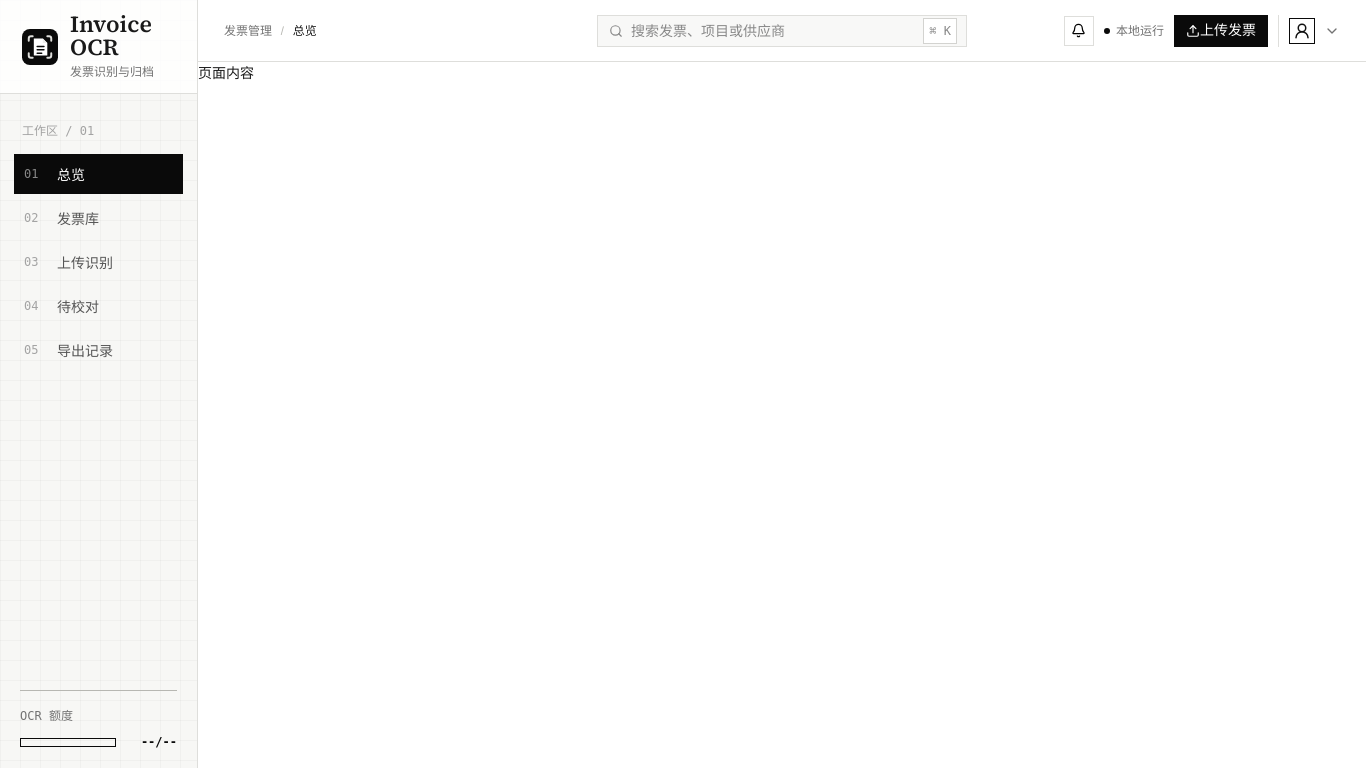
Test: global search command › shows empty and request-error states
Click the button "搜索发票、项目或供应商 ⌘ K" at (782, 30), box [597,14,967,46]
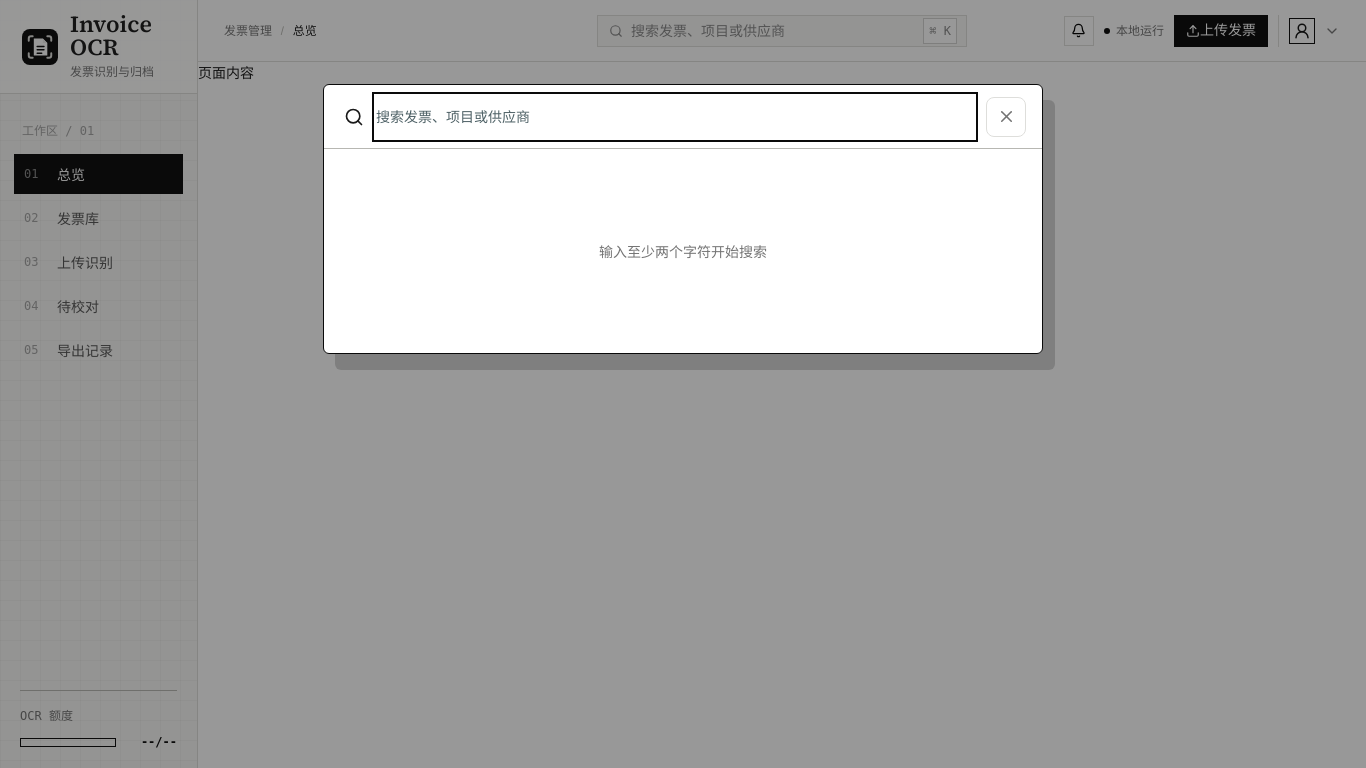
Type "没有" into the search field named "全局搜索" at (675, 117), box [376,96,974,138]
Wait 220 ms
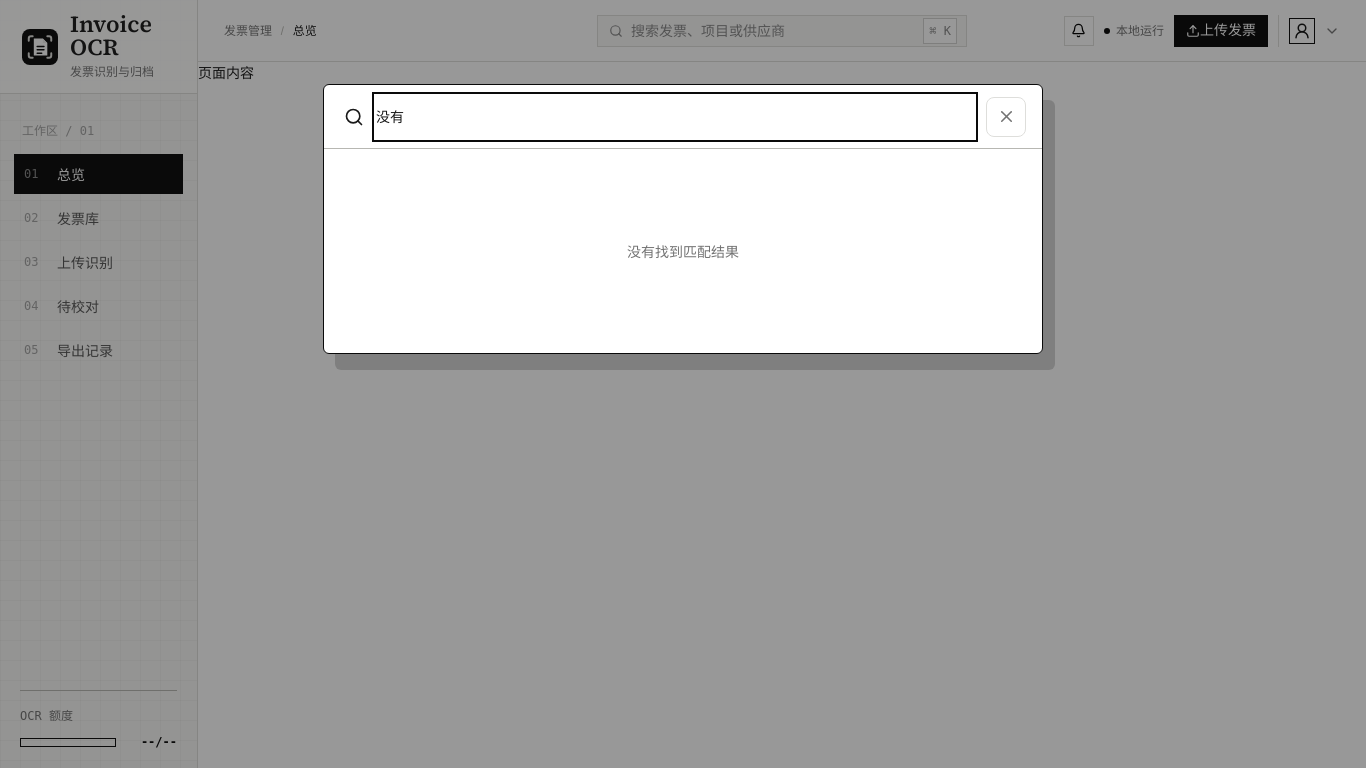
Check: the text "没有找到匹配结果" is shown, box [627,242,739,261]
Replace the text in the search field named "全局搜索" with "断网" at (675, 117), box [376,96,974,138]
Wait 220 ms
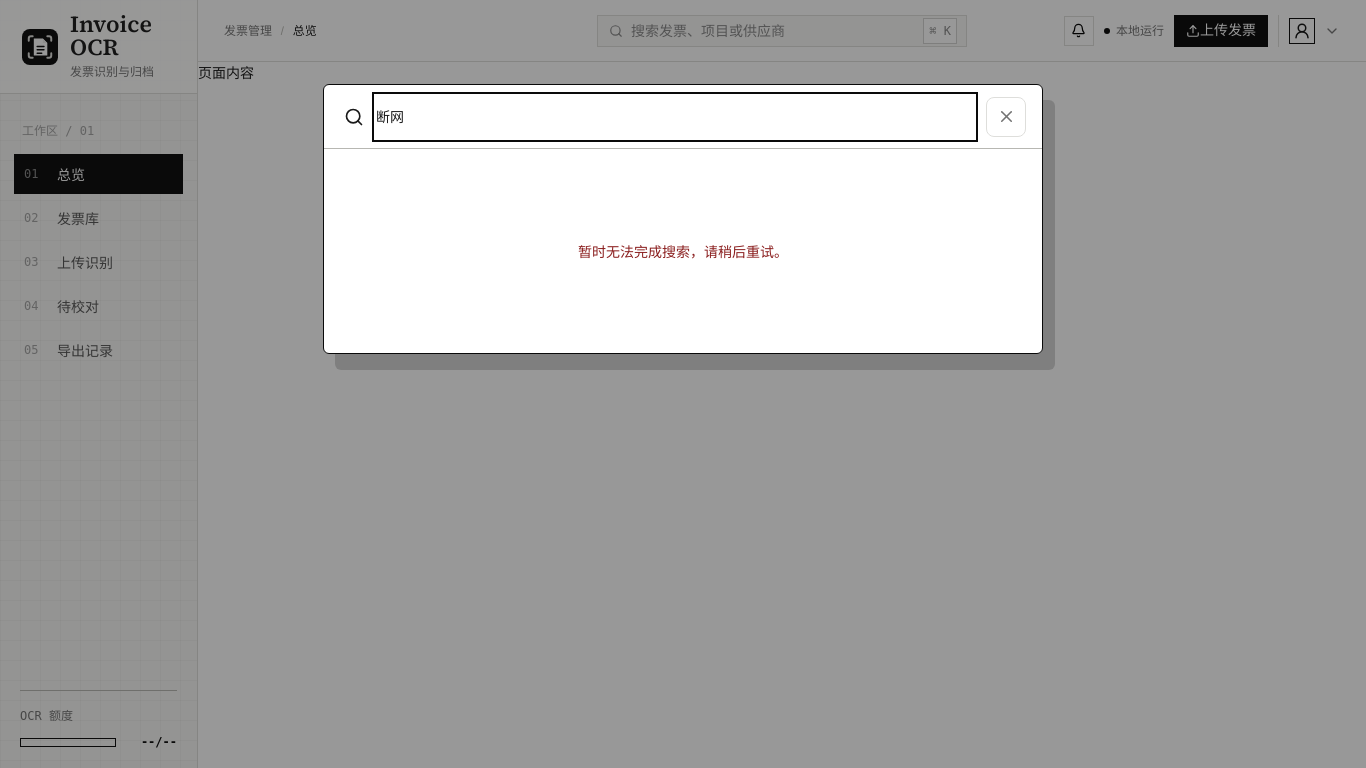
Check: the message shows "暂时无法完成搜索", box [578,242,788,261]
